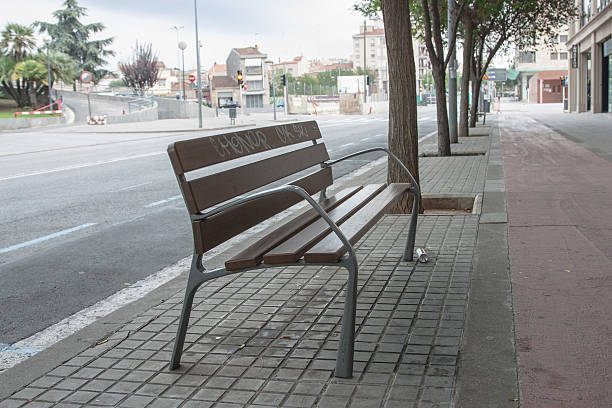bench: (146, 109, 424, 385)
